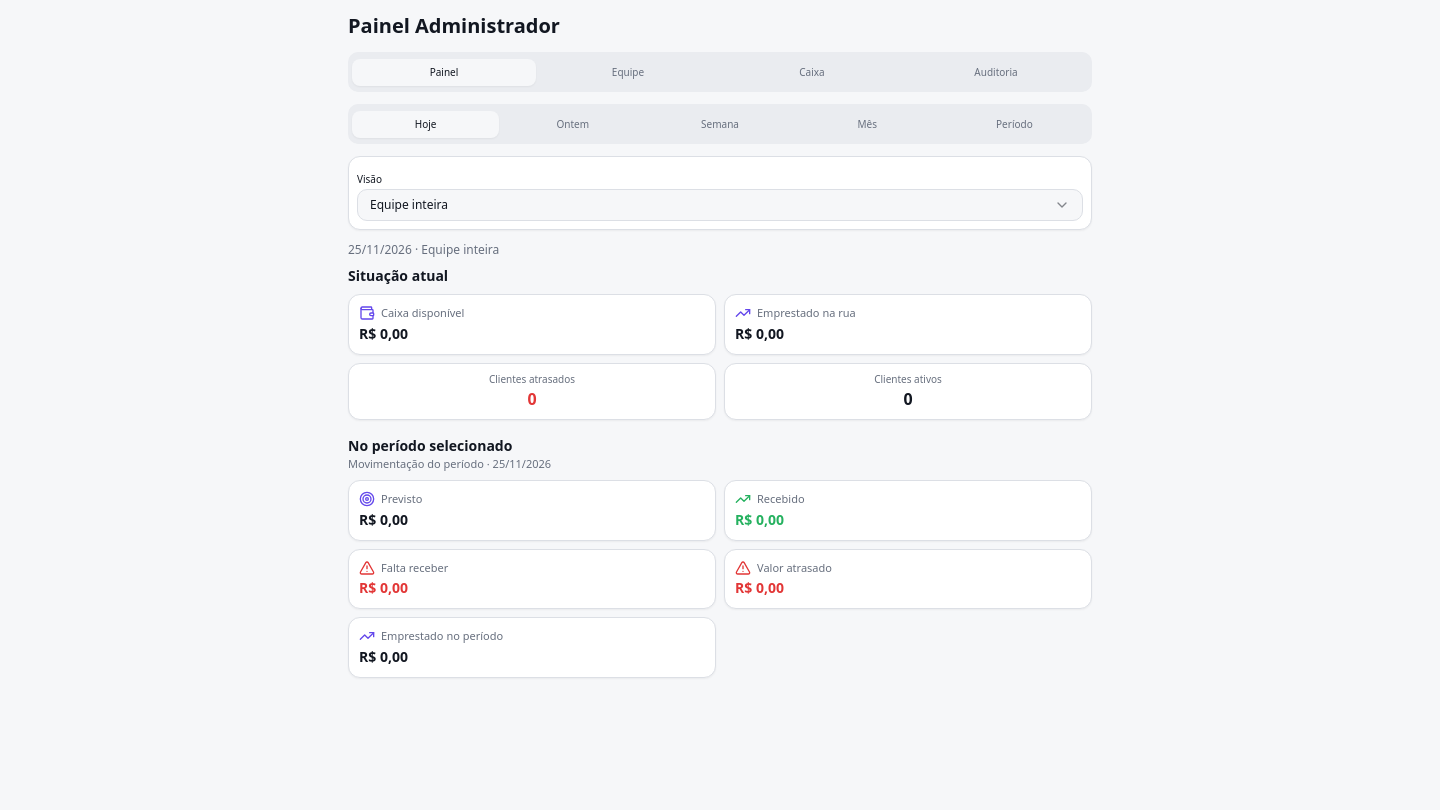
Test: botão Editar ao lado do nome do trabalhador › abre o modal de edição direto na aba Equipe do Admin, com a observação existente preenchida
Later steps or results of the test are not shown.
Step 1. Press the mouse on the tab "Equipe" → (628, 72), box top-left (536, 58), bottom-right (720, 86)
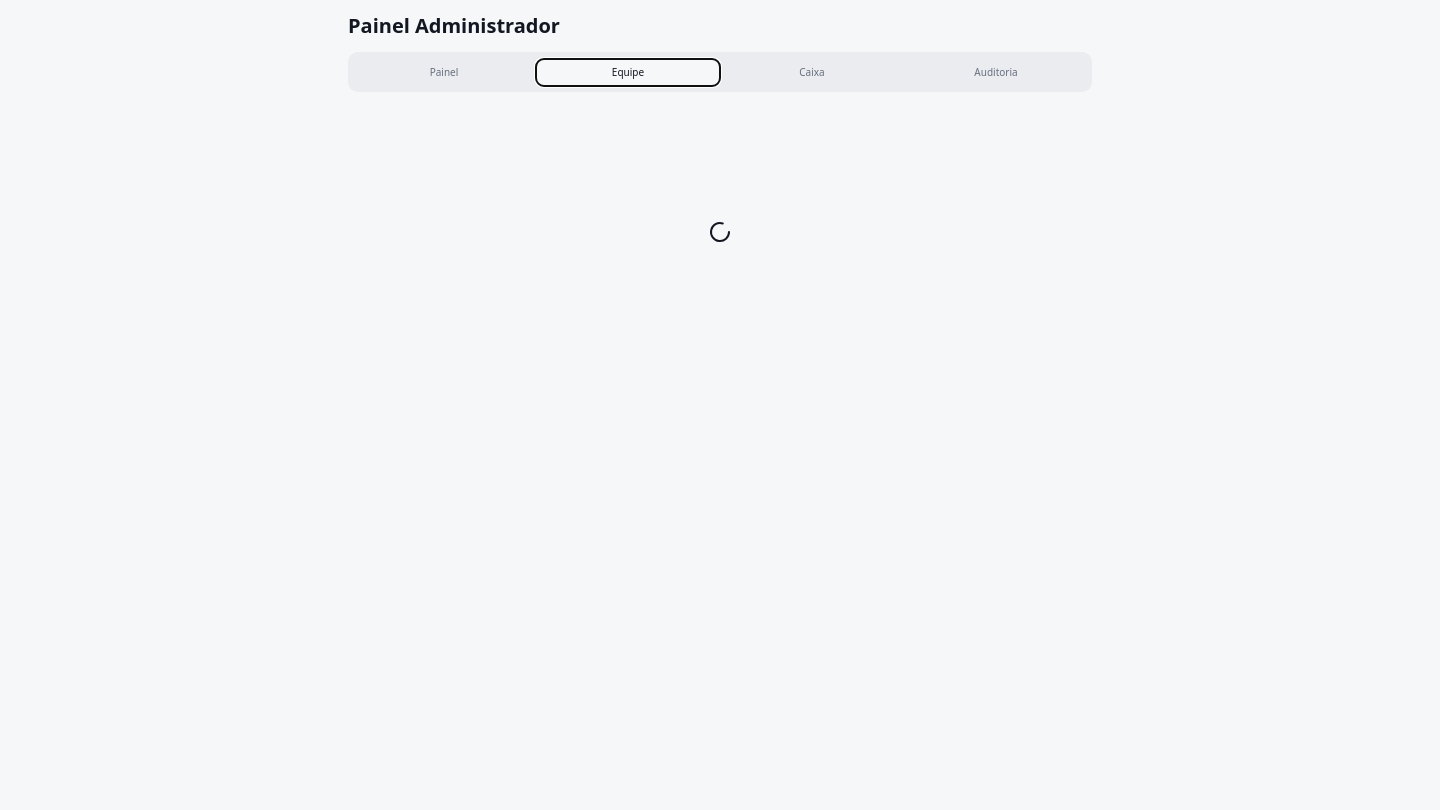
Step 2. Click the tab "Equipe" → (628, 72), box top-left (536, 58), bottom-right (720, 86)
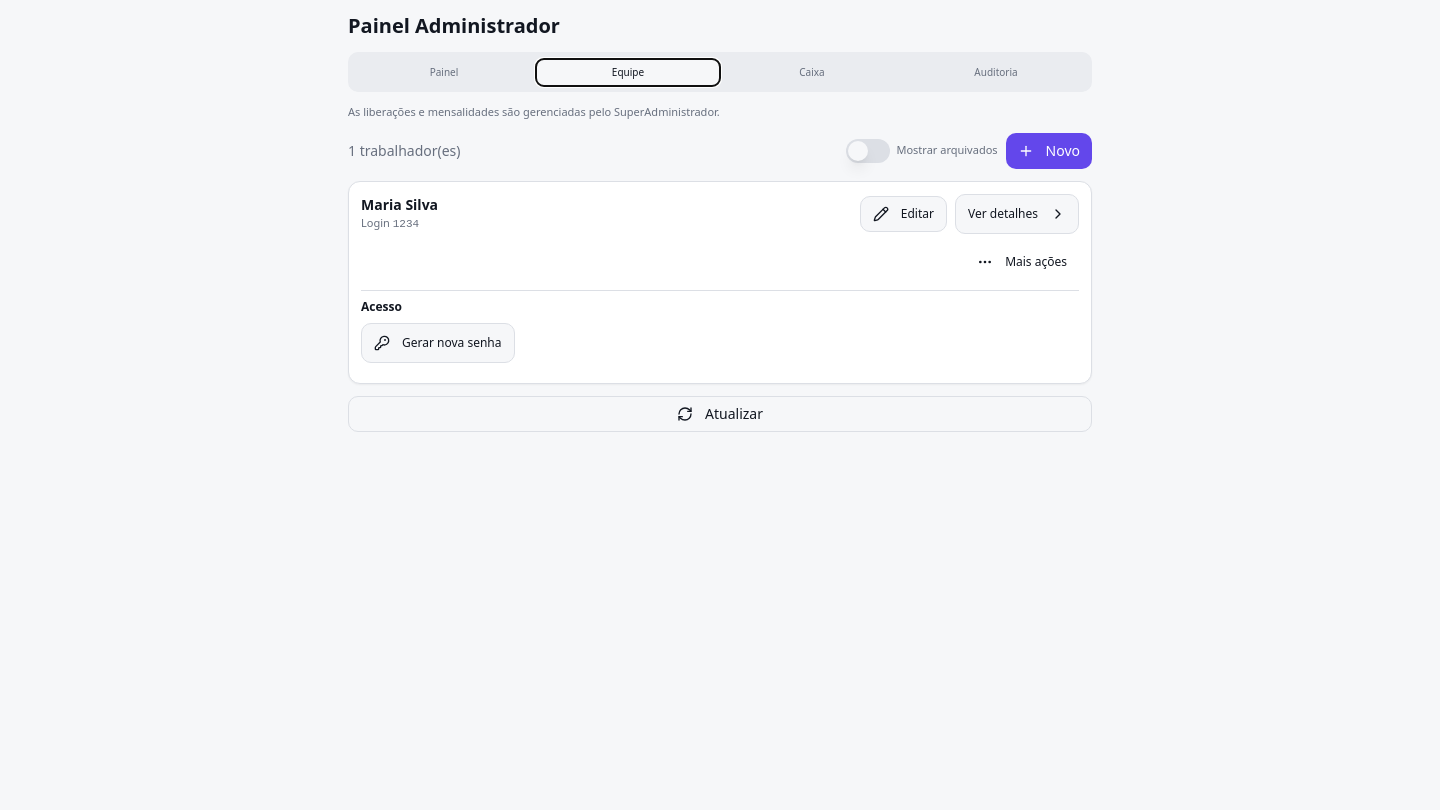
Result: the text "Maria Silva" is shown at top-left (361, 195), bottom-right (438, 215)
Result: the element named "Editar Maria Silva" shows "Maria Silva" at top-left (361, 195), bottom-right (438, 214)
Step 3. Click the button with aria-label "Editar Maria Silva" → (903, 214), box top-left (860, 196), bottom-right (947, 232)
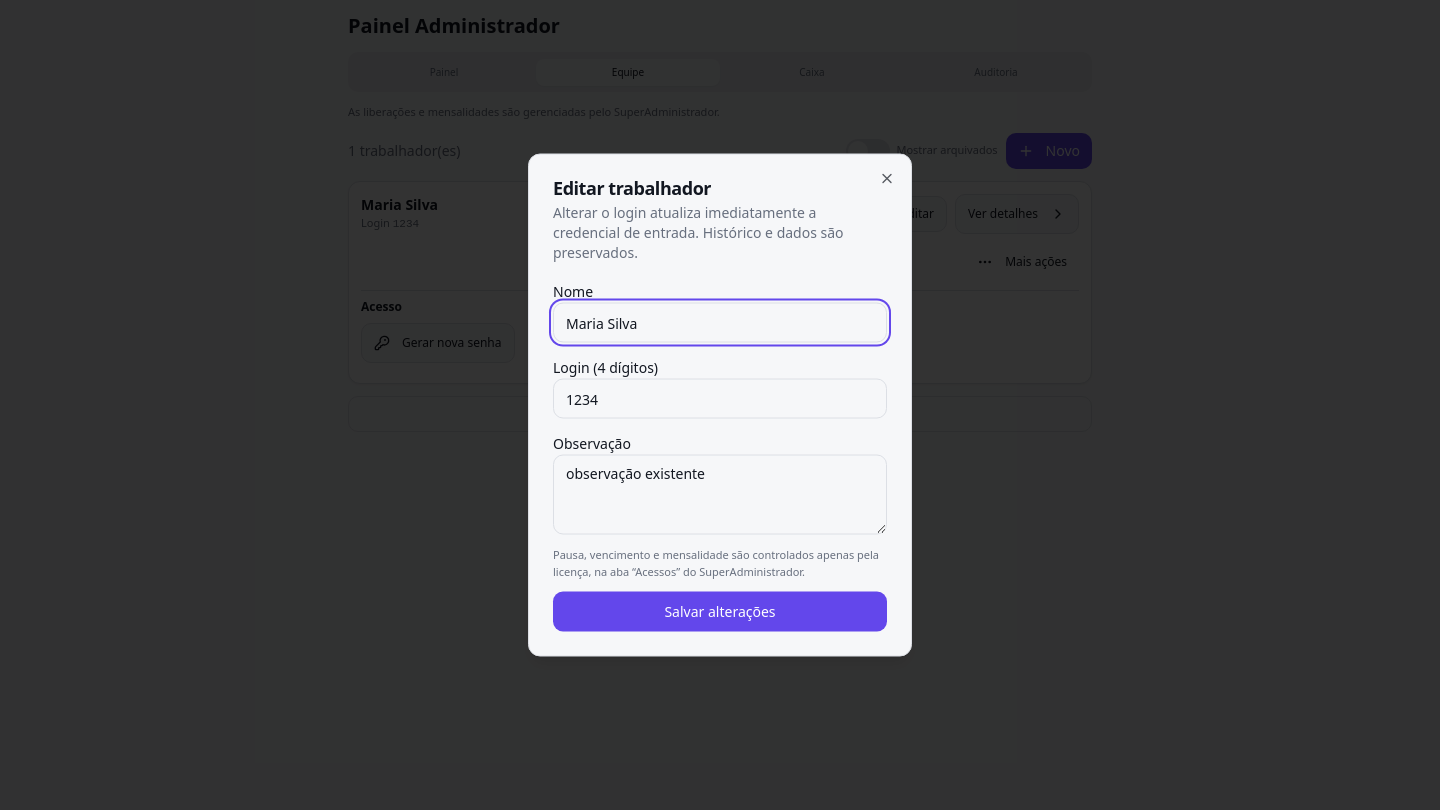
Result: the field labelled "Nome" holds "Maria Silva" at top-left (553, 302), bottom-right (887, 342)
Result: the text box labelled "Observação" holds "observação existente" at top-left (553, 454), bottom-right (887, 534)
